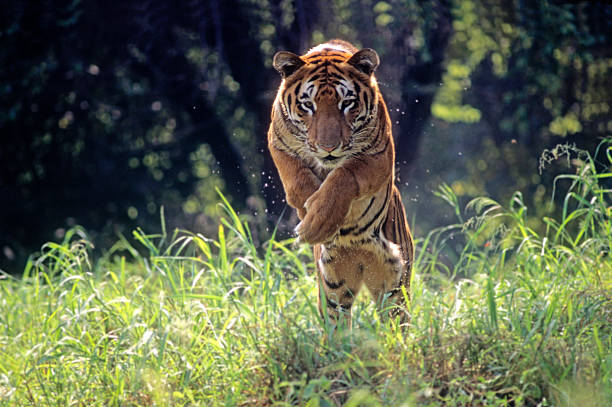tiger: (264, 41, 382, 168)
